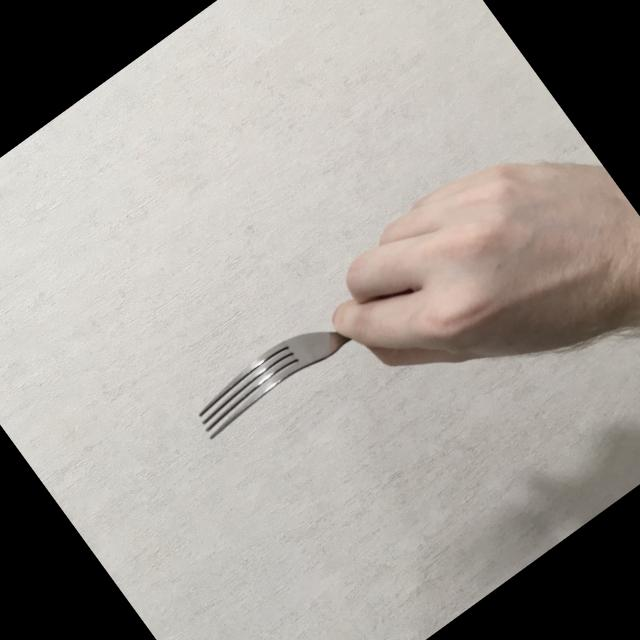fork: (182, 220, 469, 447)
